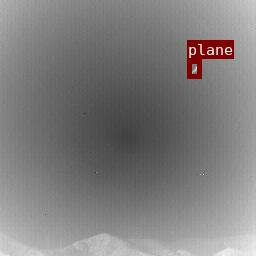plane: (187, 59, 201, 78)
